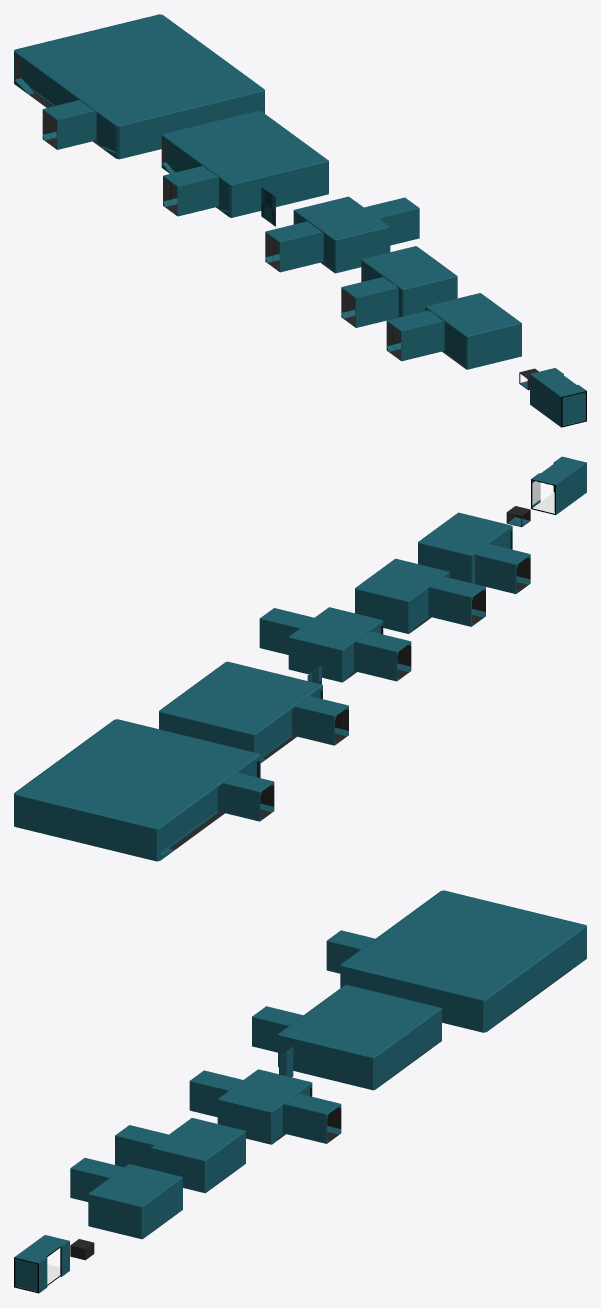
File: AllPrefabsSpace3v3.fbx
The picture shows the model from 3 angles, top to bottom: view 1: azimuth 30°, elevation 25°; view 2: azimuth 150°, elevation 25°; view 3: azimuth 330°, elevation 25°; orthographic projection.
Visible parts, largest first — view 1: Cube.016, Cube.012, Cube.001, Cube.009, Cube.008, Cube.004, Cube.007, Cube.010, Cube.006, Cube.014, Cube.015, Cube.011; view 2: Cube.016, Cube.012, Cube.008, Cube.009, Cube.001, Cube.006, Cube.010, Cube.004, Cube.007, Cube.014, Cube.015, Cube.011; view 3: Cube.016, Cube.012, Cube.001, Cube.008, Cube.009, Cube.011, Cube.004, Cube.006, Cube.010, Cube.014, Cube.007, Cube.015.
Boxes of the visible parts, <box> form: Cube.016: <box>14,14,264,159</box>; Cube.012: <box>161,110,328,217</box>; Cube.001: <box>425,293,521,369</box>; Cube.009: <box>293,196,390,273</box>; Cube.008: <box>361,246,457,317</box>; Cube.004: <box>530,368,586,427</box>; Cube.007: <box>386,310,444,361</box>; Cube.010: <box>265,221,323,272</box>; Cube.006: <box>341,277,398,327</box>; Cube.014: <box>163,166,218,216</box>; Cube.015: <box>42,100,96,149</box>; Cube.011: <box>364,197,419,245</box>; Cube.016: <box>14,719,260,861</box>; Cube.012: <box>159,661,322,762</box>; Cube.008: <box>355,558,449,633</box>; Cube.009: <box>288,607,383,682</box>; Cube.001: <box>418,512,512,583</box>; Cube.006: <box>428,577,485,626</box>; Cube.010: <box>354,631,411,681</box>; Cube.004: <box>531,456,586,514</box>; Cube.007: <box>475,544,530,593</box>; Cube.014: <box>292,696,348,745</box>; Cube.015: <box>217,772,274,821</box>; Cube.011: <box>259,608,314,654</box>; Cube.016: <box>340,890,586,1032</box>; Cube.012: <box>278,985,441,1090</box>; Cube.001: <box>88,1164,182,1239</box>; Cube.008: <box>151,1118,245,1193</box>; Cube.009: <box>217,1069,312,1144</box>; Cube.011: <box>283,1093,341,1143</box>; Cube.004: <box>14,1235,69,1293</box>; Cube.006: <box>115,1125,168,1168</box>; Cube.010: <box>189,1070,242,1117</box>; Cube.014: <box>252,1006,302,1052</box>; Cube.007: <box>70,1158,123,1201</box>; Cube.015: <box>326,930,374,973</box>.
Size of the model in its own units: 5093 by 882 by 23404.
